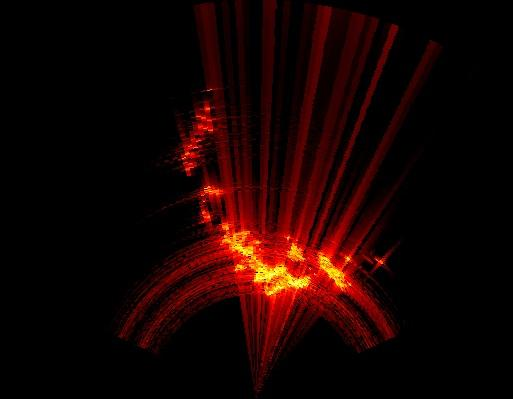shipwreck: (222, 224, 309, 294), (321, 253, 348, 287), (285, 243, 304, 264)
